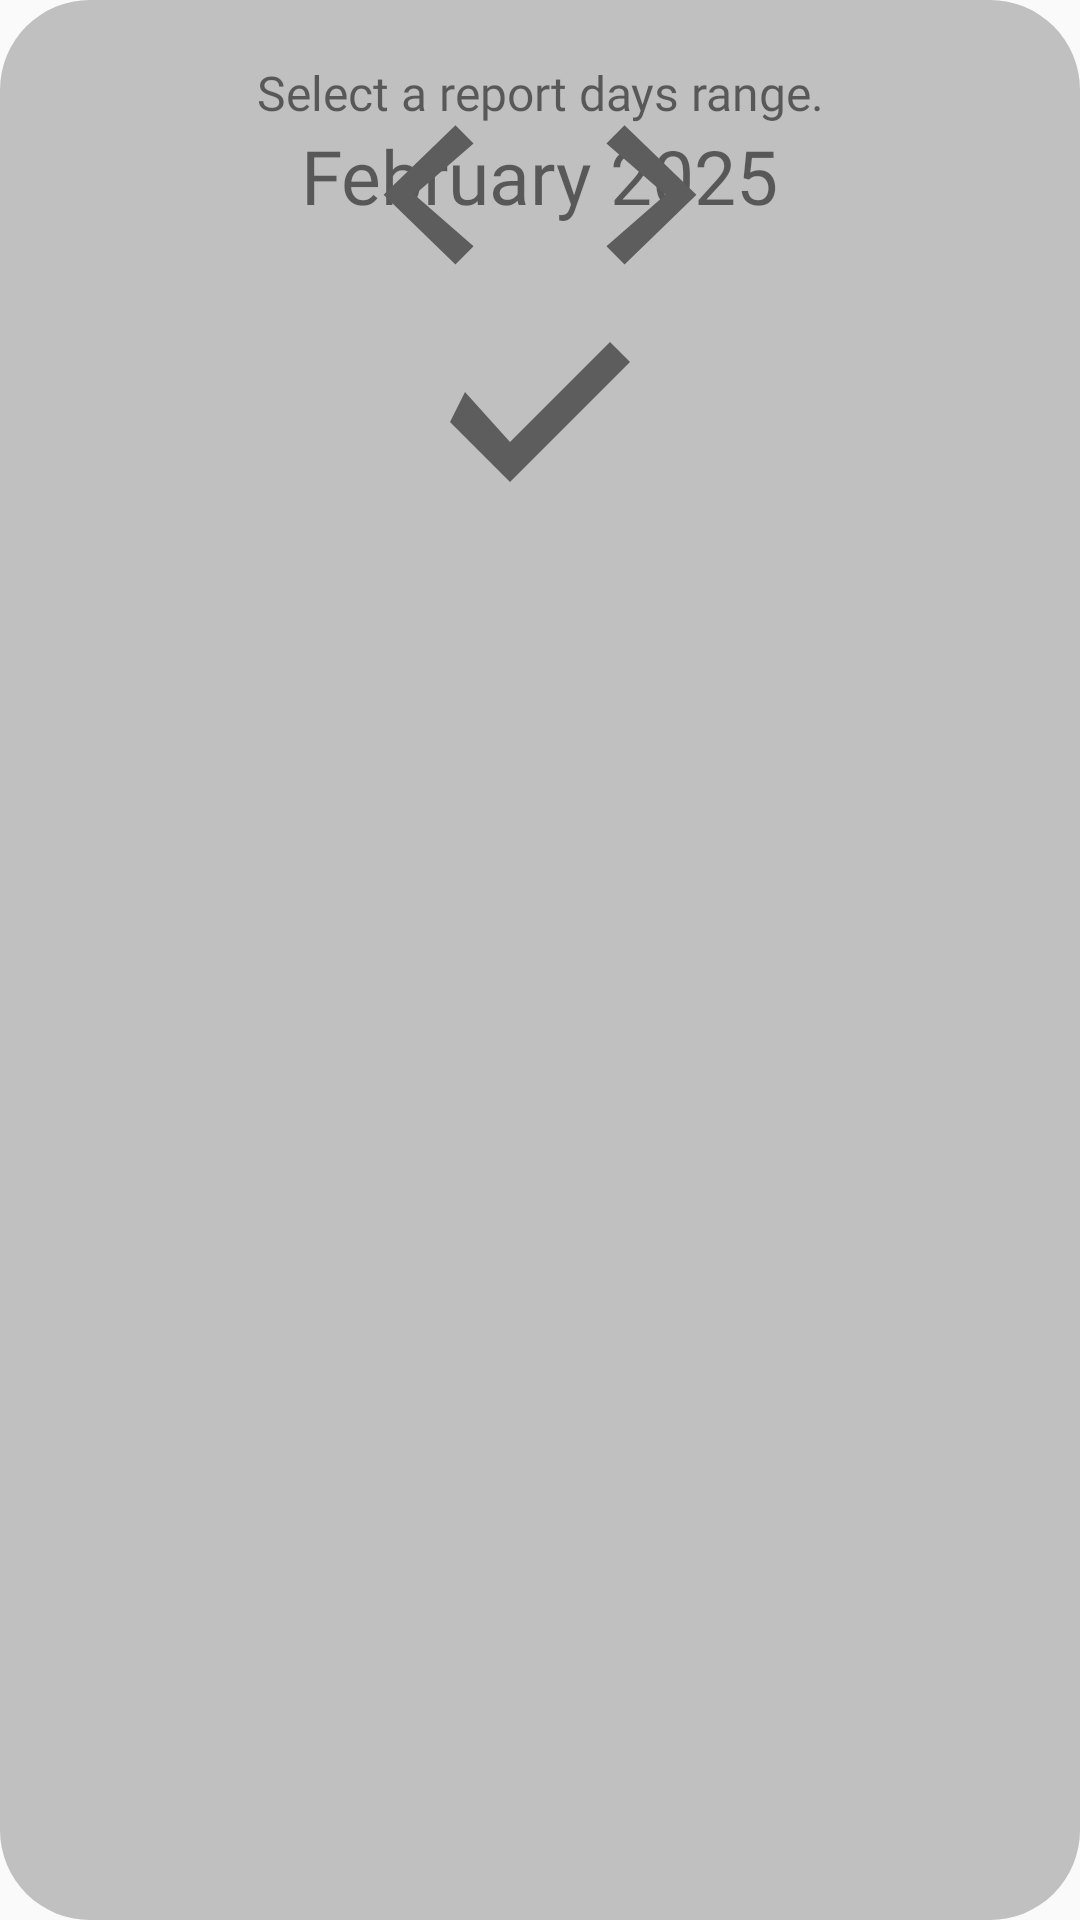

Where to tap for icons on this 1080*1920 app screen, as point (x, y):
back arrow circleless: point (435, 195)
checkmark: point (540, 412)
next arrow circleless: point (645, 195)
